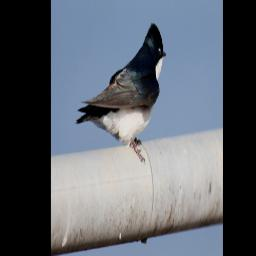Swallow: (76, 22, 166, 164)
